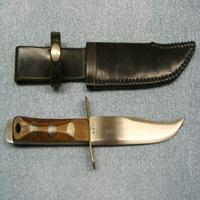knife: (9, 99, 187, 160)
